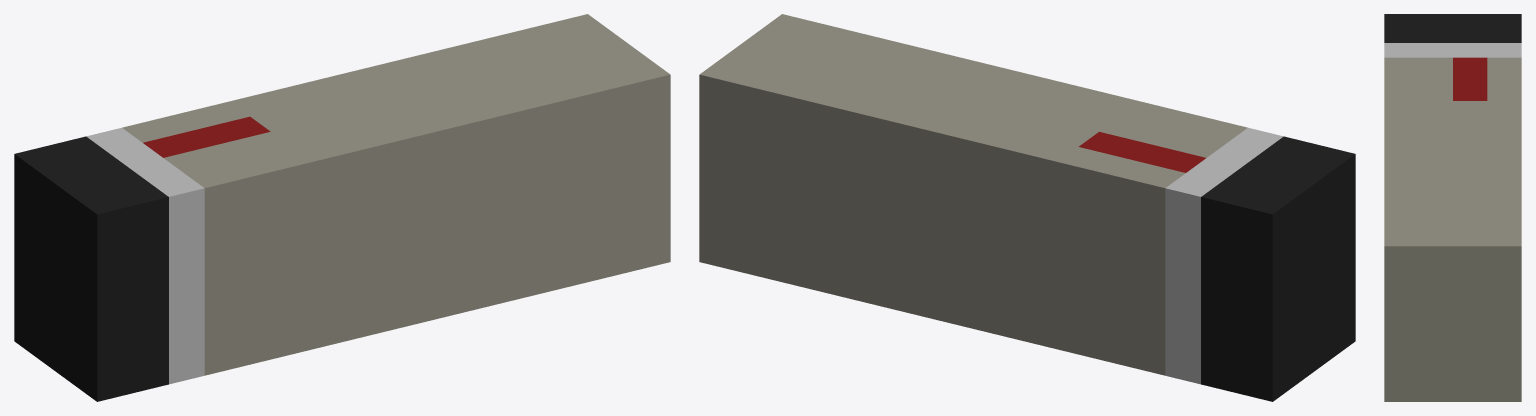
File: brazo.obj
3 views of the same model, side by side, from view 1: azimuth 30°, elevation 25°; view 2: azimuth 150°, elevation 25°; view 3: azimuth 270°, elevation 25° (orthographic). The views are drawn at different scales.
Parts seen in each view (by area): view 1: brazo; view 2: brazo; view 3: brazo.
Boxes of the visible parts, box(x1,y1,x2,y2) form: brazo: box(14, 14, 670, 401); brazo: box(699, 14, 1355, 401); brazo: box(1384, 14, 1521, 401).
Bounding box in the file's own units: 1.6 × 0.5 × 0.4.
1 material, 1 textured.
